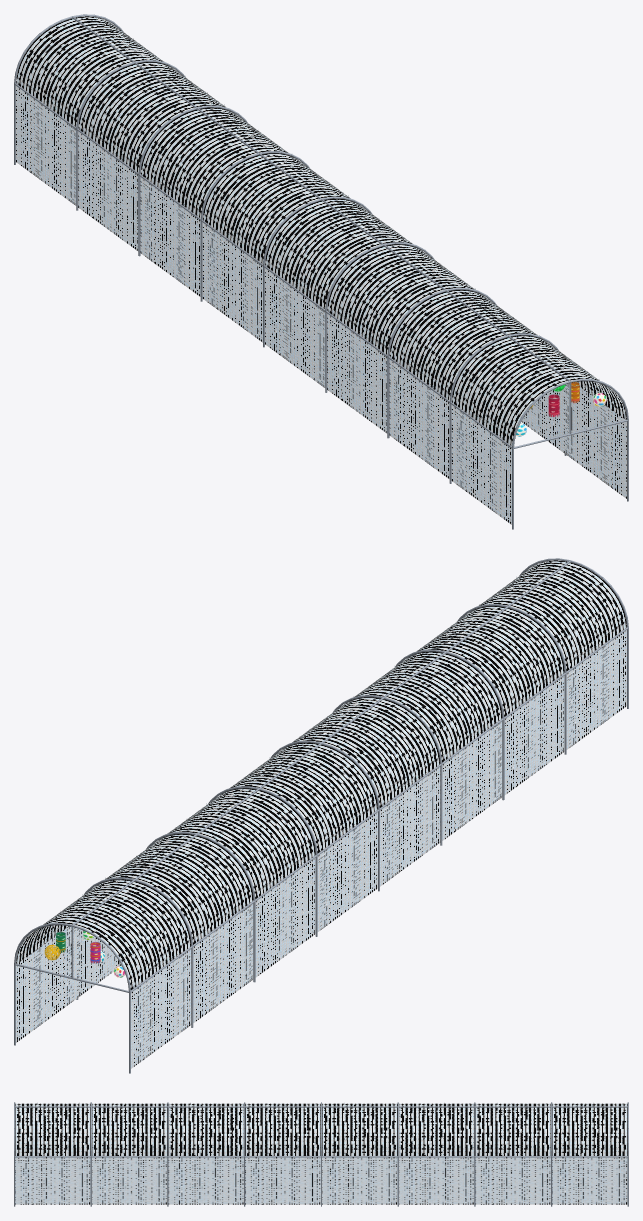
Rendered from tunnel_24m.glb.
3 views of the same model, one above another, from view 1: azimuth 30°, elevation 25°; view 2: azimuth 150°, elevation 25°; view 3: azimuth 270°, elevation 25° (orthographic). The views are drawn at different scales.
Parts seen in each view (by area): view 1: TunnelBay_1, TunnelBay_2, TunnelBay_6, TunnelBay_3, TunnelBay_4, TunnelBay_7, TunnelBay_8, TunnelBay_5, ArchFrame_1; view 2: TunnelBay_8, TunnelBay_7, TunnelBay_3, TunnelBay_6, TunnelBay_5, TunnelBay_1, TunnelBay_2, TunnelBay_4, ArchFrame_9; view 3: TunnelBay_3, TunnelBay_6, TunnelBay_1, TunnelBay_4, TunnelBay_5, TunnelBay_8, TunnelBay_2, TunnelBay_7, ArchFrame_3, ArchFrame_4, ArchFrame_6, ArchFrame_7 (+4 smaller).
Part boxes in pixels (x1,y1,x2,y2): TunnelBay_1: (450,335,626,524); TunnelBay_2: (388,290,564,478); TunnelBay_6: (139,107,297,298); TunnelBay_3: (326,244,483,433); TunnelBay_4: (263,199,421,387); TunnelBay_7: (76,62,234,251); TunnelBay_8: (14,16,172,205); TunnelBay_5: (201,153,359,342); ArchFrame_1: (512,379,628,529); TunnelBay_8: (16,879,192,1068); TunnelBay_7: (78,834,254,1022); TunnelBay_3: (345,651,503,842); TunnelBay_6: (159,788,316,977); TunnelBay_5: (221,743,379,931); TunnelBay_1: (470,560,628,749); TunnelBay_2: (408,606,566,795); TunnelBay_4: (283,697,441,886); ArchFrame_9: (14,923,130,1073); TunnelBay_3: (168,1103,244,1204); TunnelBay_6: (398,1103,474,1204); TunnelBay_1: (15,1103,90,1204); TunnelBay_4: (245,1103,320,1204); TunnelBay_5: (322,1103,397,1204); TunnelBay_8: (552,1103,627,1204); TunnelBay_2: (92,1103,167,1204); TunnelBay_7: (475,1103,550,1204); ArchFrame_3: (167,1102,168,1206); ArchFrame_4: (244,1102,245,1206); ArchFrame_6: (397,1102,398,1206); ArchFrame_7: (474,1102,475,1206).
Size of the model in its own units: 3.25 by 3.57 by 24.05.
Materials: 20 (18 with a texture image).
